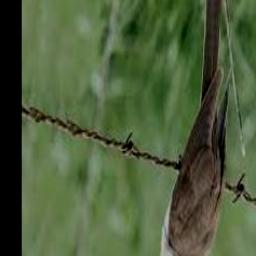Cuckoo: (145, 0, 230, 256)
